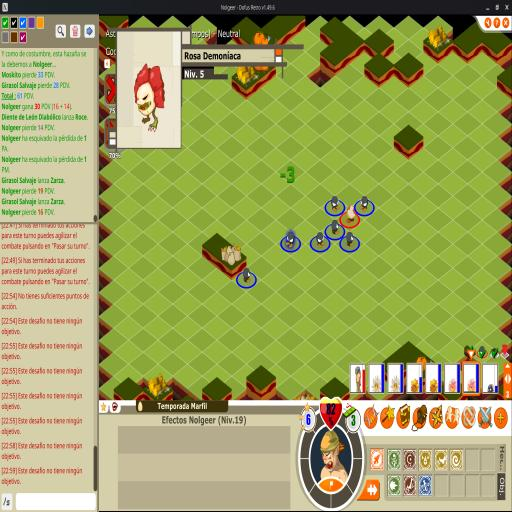Enemigos: (331, 219, 342, 236), (331, 195, 341, 213), (359, 195, 369, 213), (316, 231, 326, 249), (286, 231, 296, 249), (346, 231, 356, 247), (242, 268, 252, 284)
Personaje: (345, 204, 357, 224)
